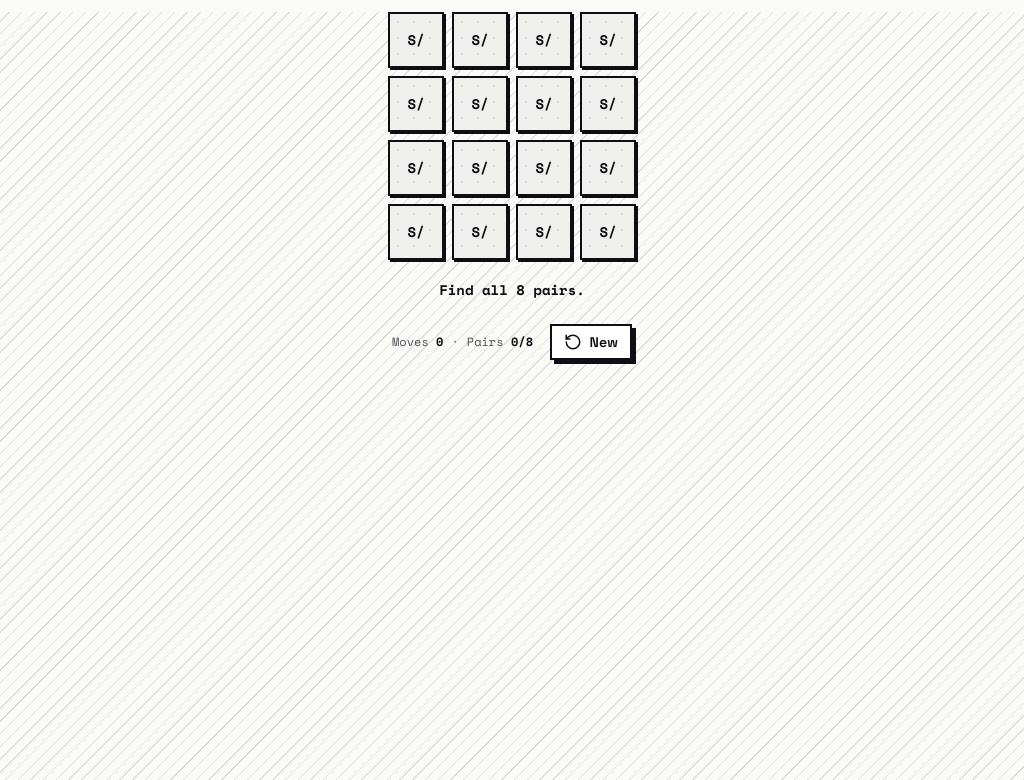
it: MemoryLab › a wrong pair is announced, then flips back
Click the 1st button "S/" at (416, 40), box [388,12,444,68]
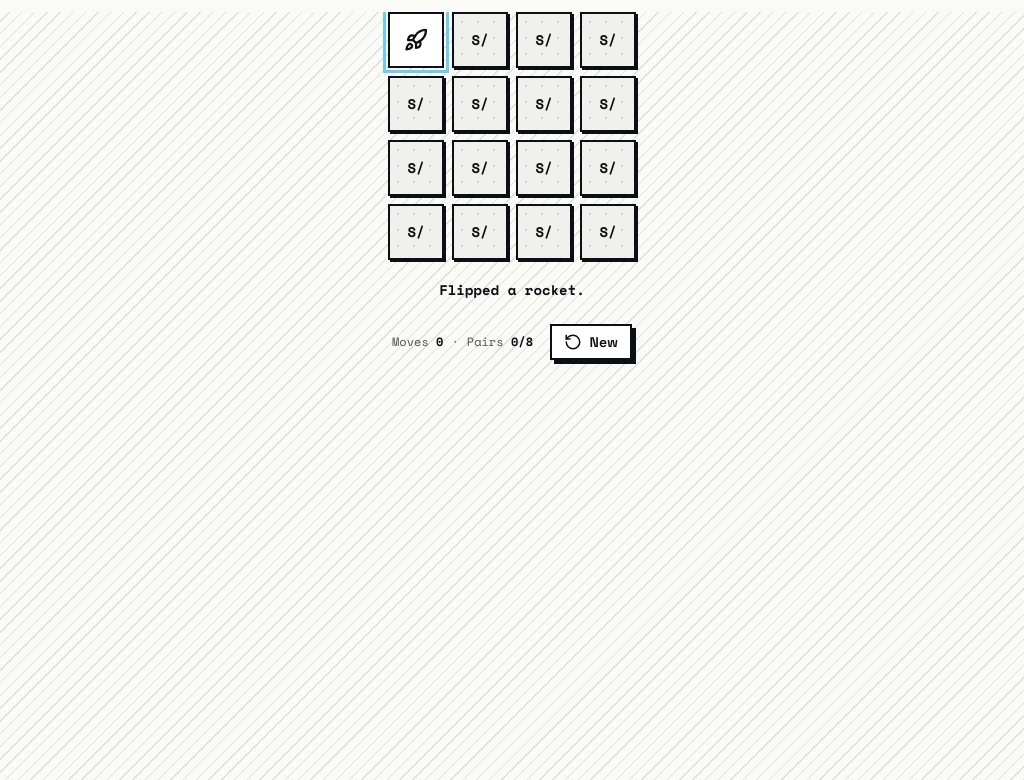
Click the 3rd button "S/" at (544, 40), box [516,12,572,68]
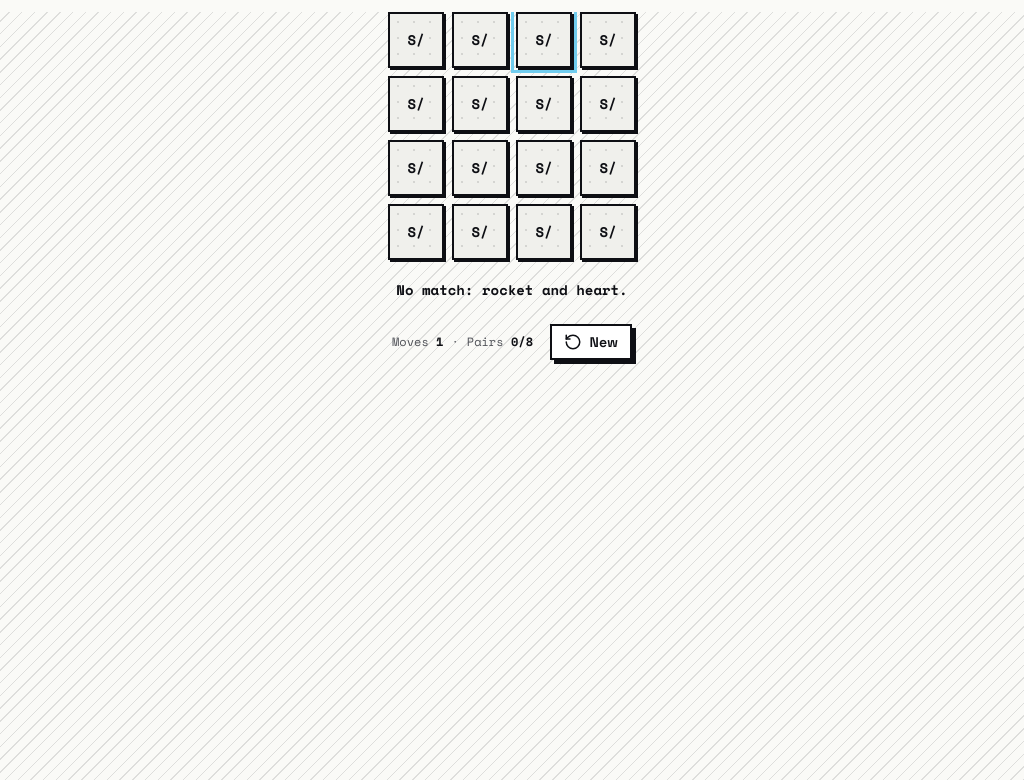
Now the text "No match: rocket and heart." is shown, box [396,280,628,304]
